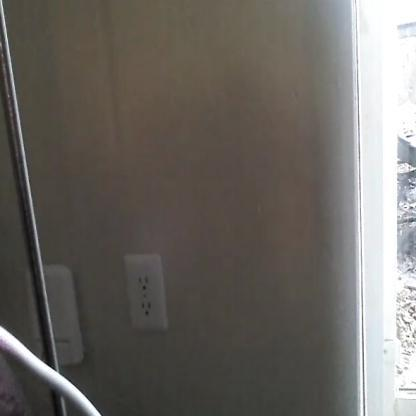OUTLET: (121, 252, 170, 334)
